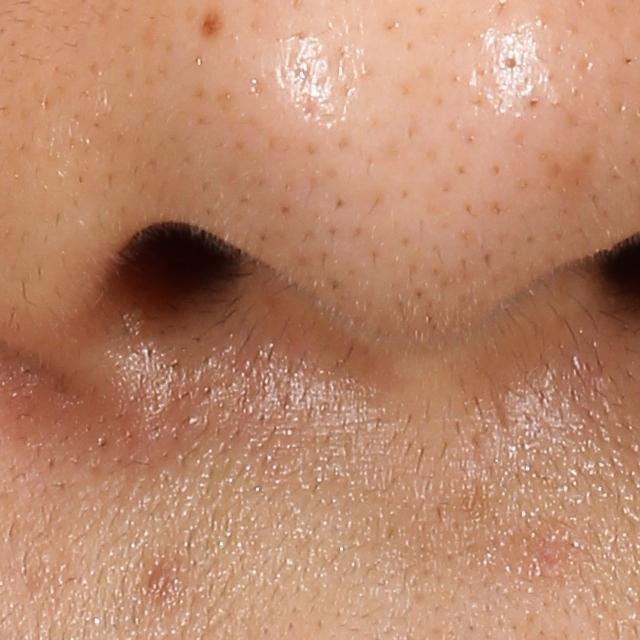nevus: (197, 12, 221, 40)
